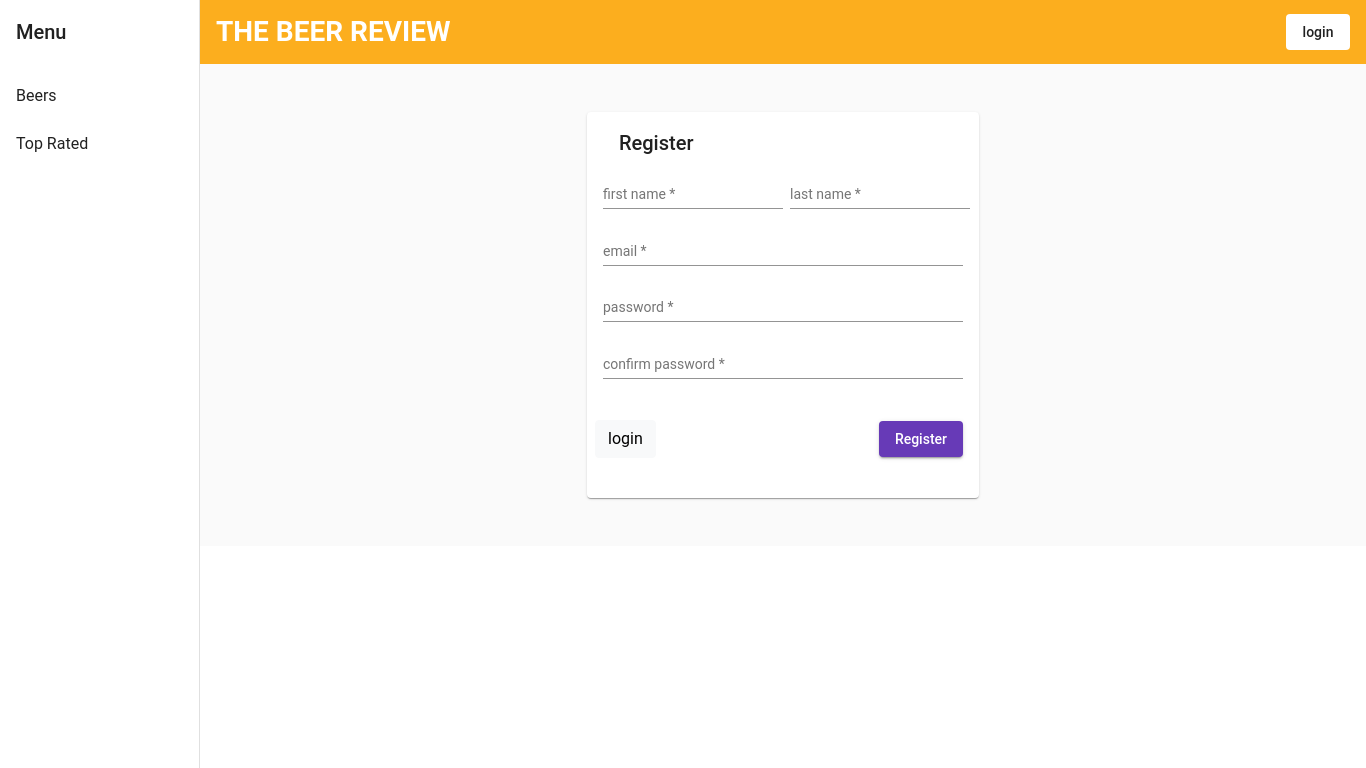
Test: Register tests › Invalid registration, passwords do not match
The width and height of the screenshot is (1366, 768).
Type "Tom" into the field with test id "firstnameInput" at (693, 195), box [603,187,783,203]
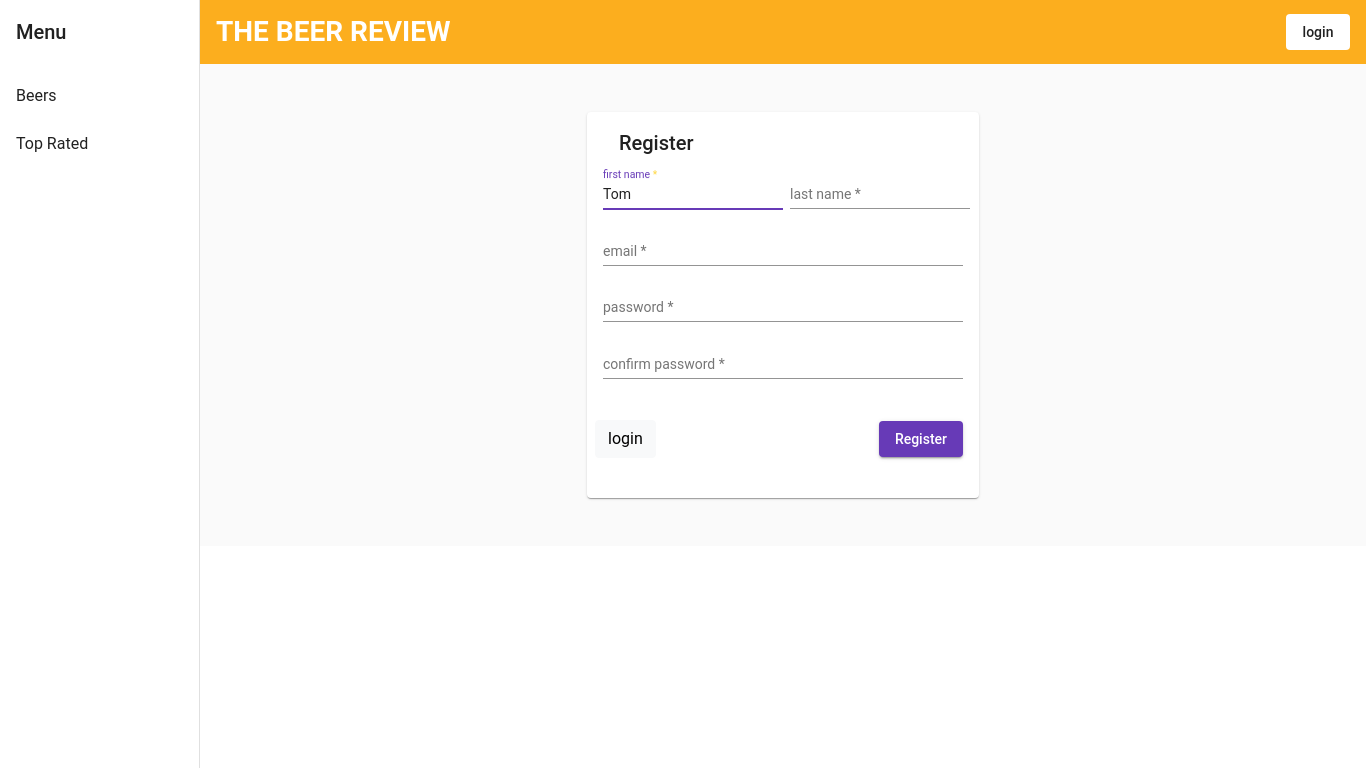
Type "Snelder" into the field with test id "lastnameInput" at (880, 195), box [790,187,970,203]
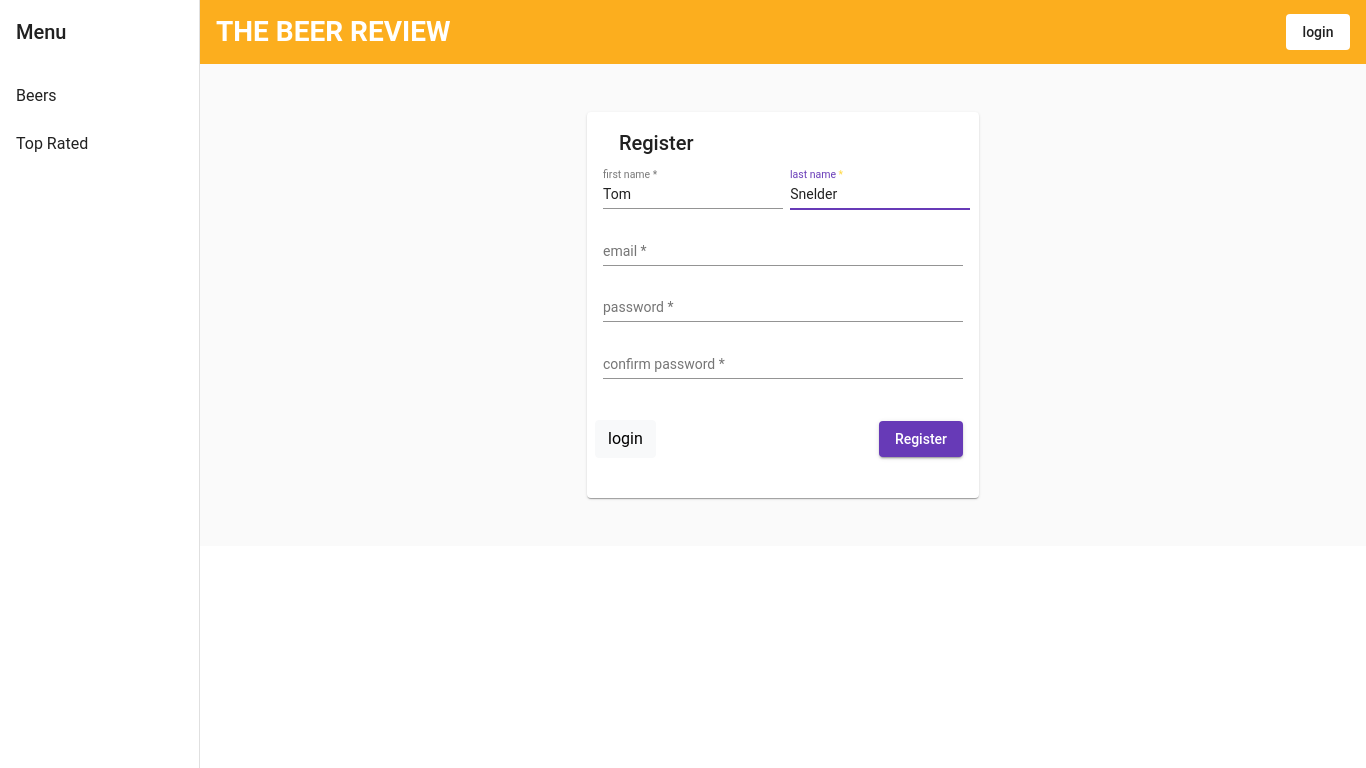
Type "tom@hogent.be" into the field with test id "emailInput" at (783, 252), box [603,244,963,260]
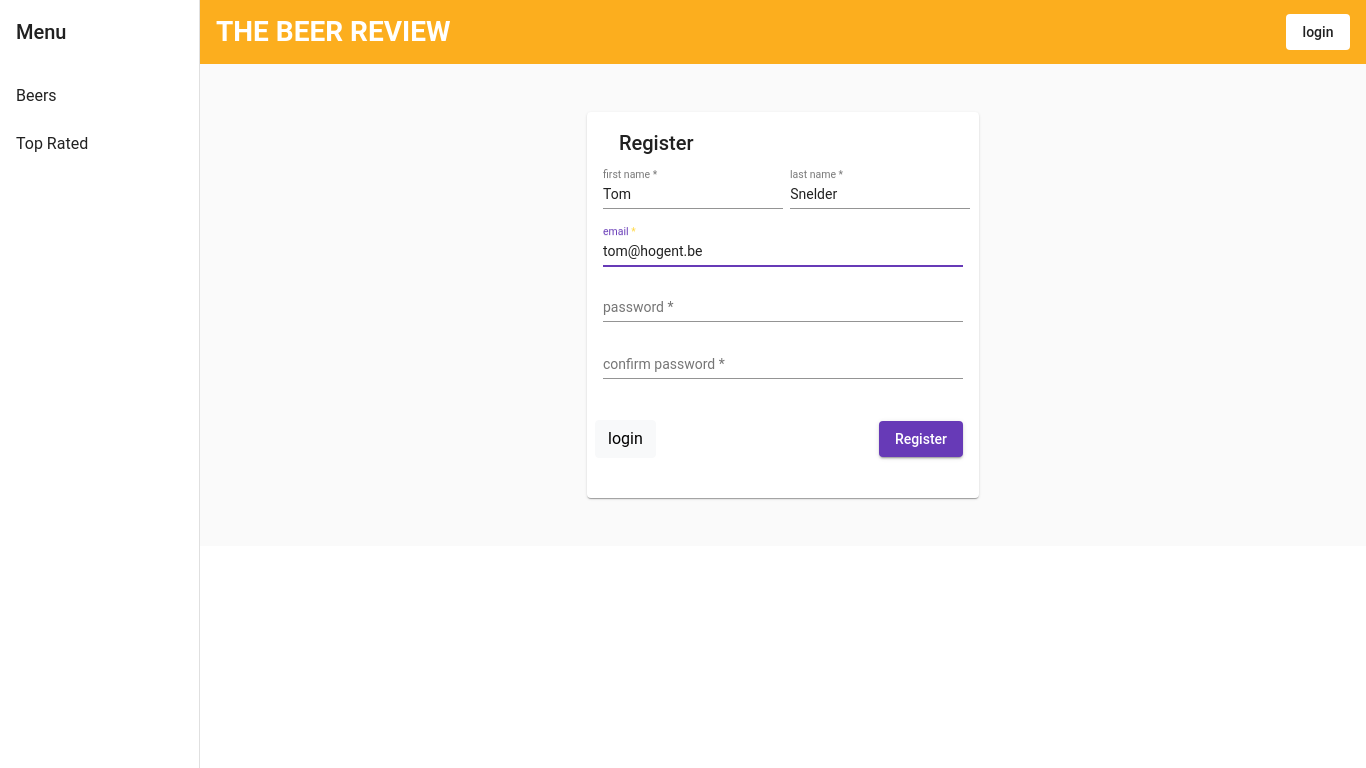
Type "Tomie123&" into the password field with test id "passwordInput" at (783, 308), box [603,300,963,316]
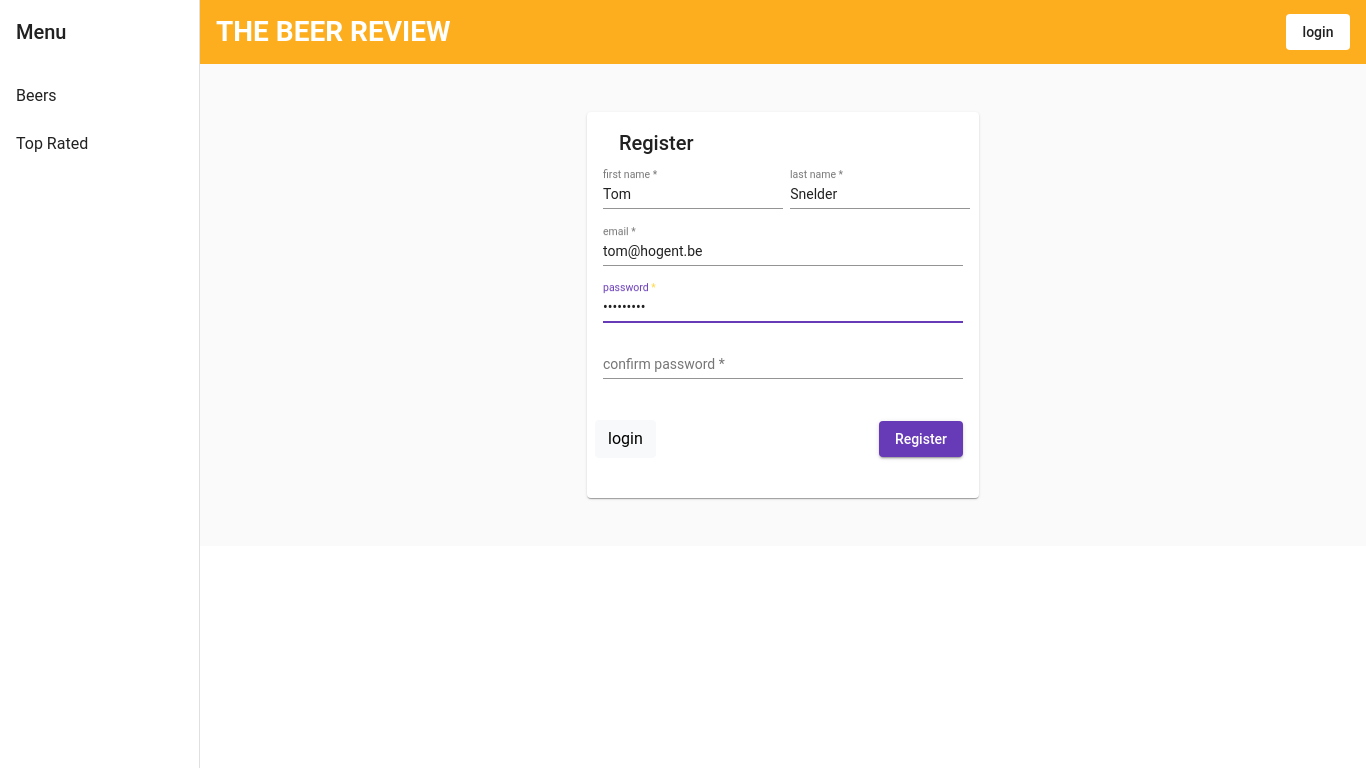
Type "tomie123&" into the password field with test id "passwordConfirmInput" at (783, 365), box [603,357,963,373]
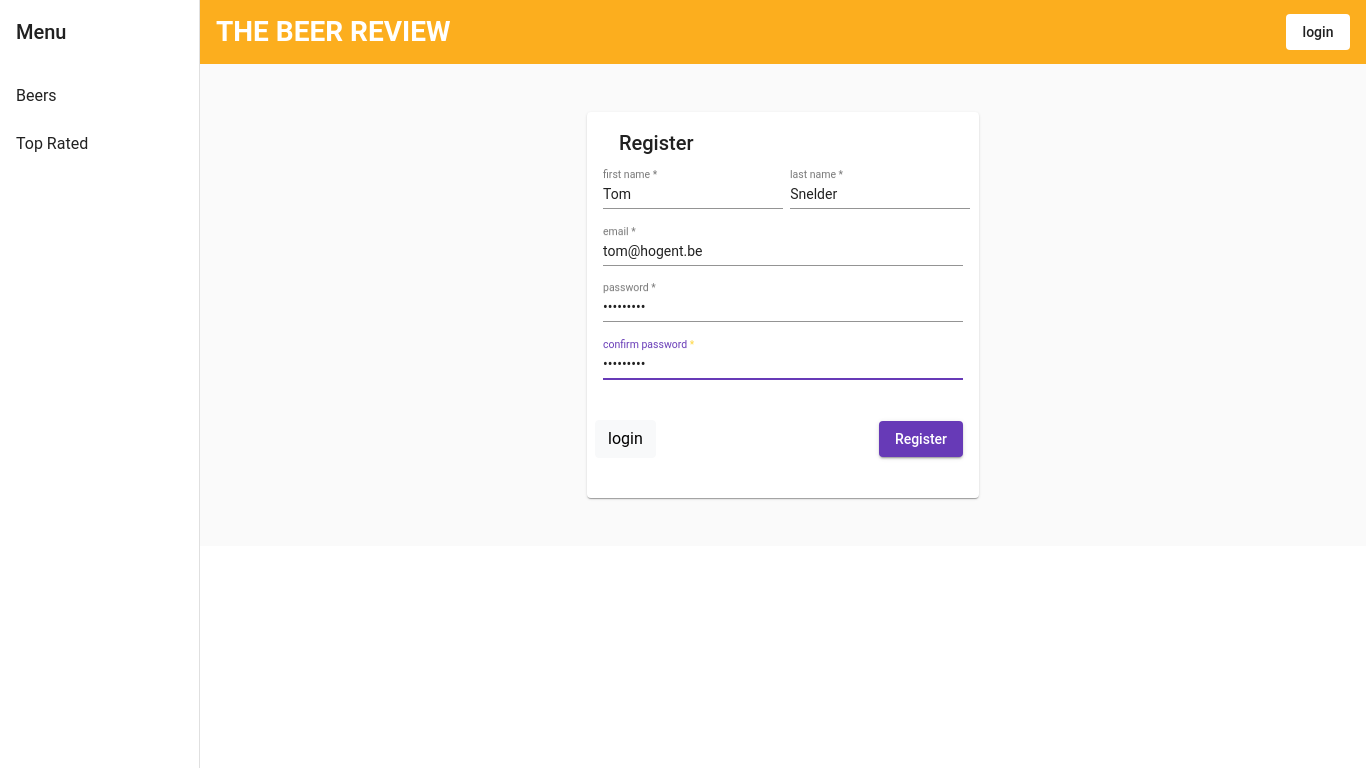
Click the button with test id "registerButton" at (921, 439), box [879,421,963,457]
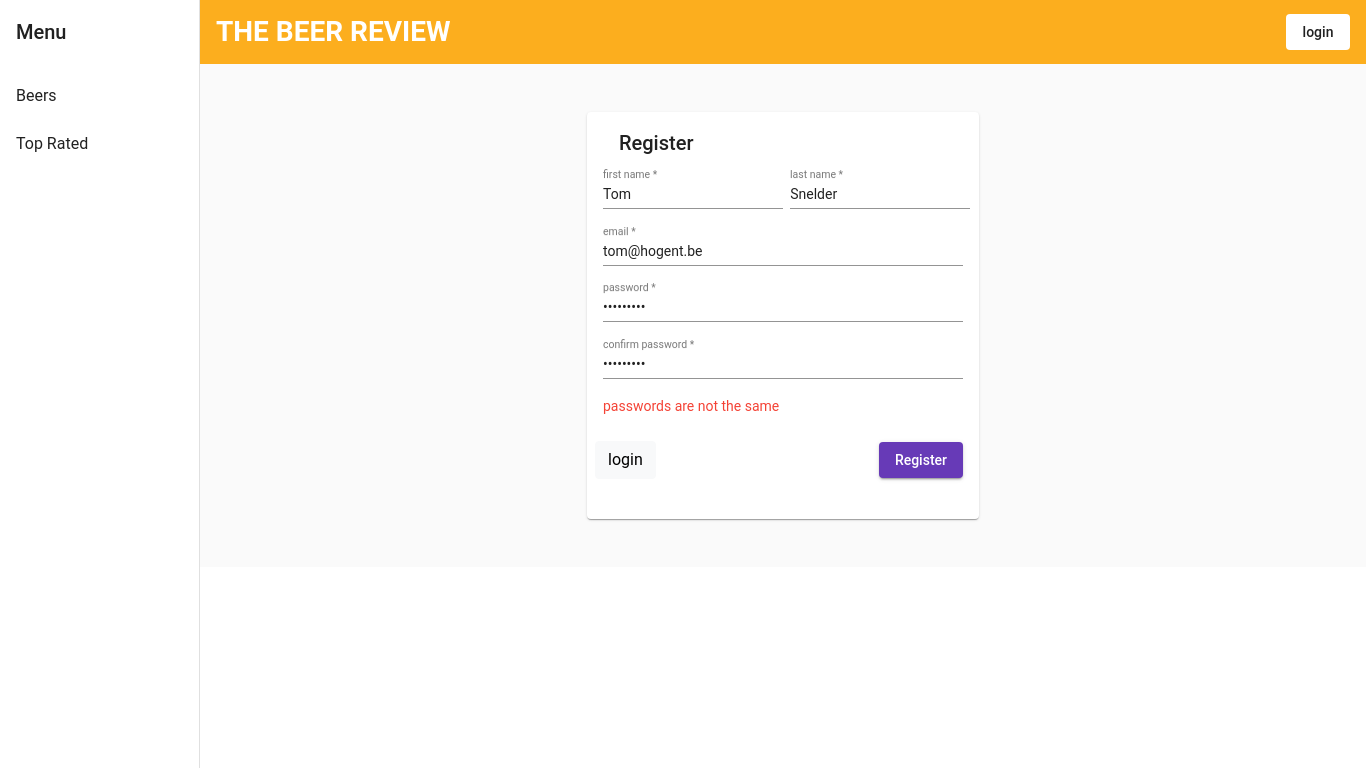
Now the text "passwords are not the same" is shown, box [603,398,779,414]
